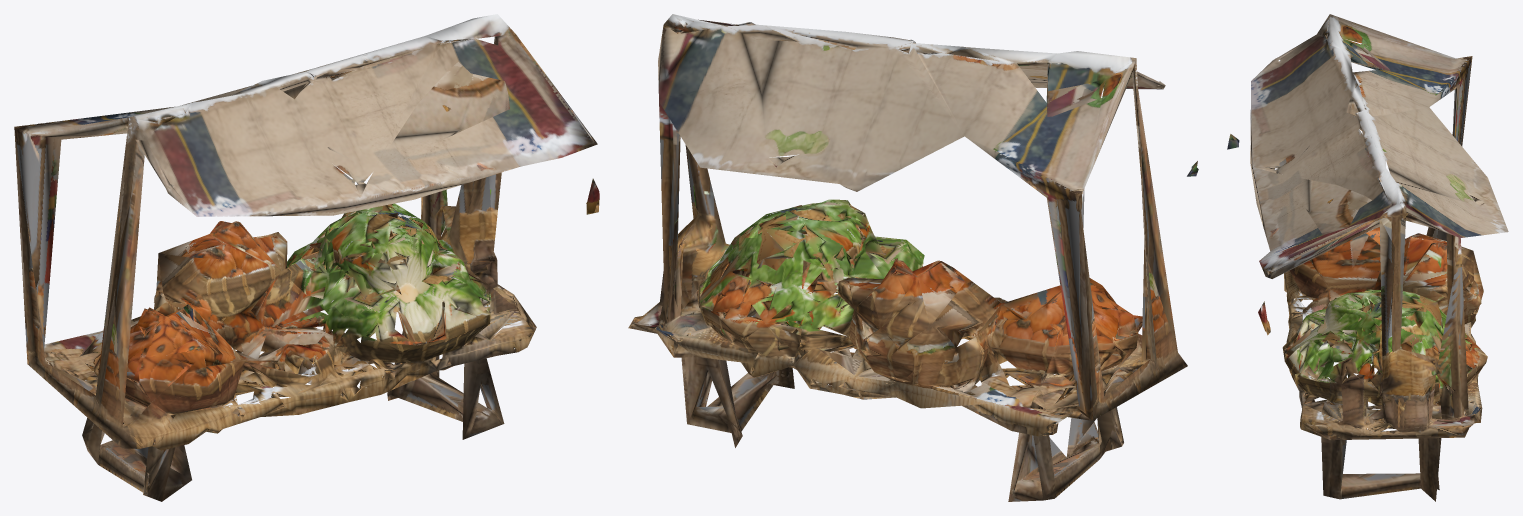
File: PR_MarketStall.fbx
3 views of the same model, side by side, from view 1: azimuth 30°, elevation 25°; view 2: azimuth 150°, elevation 25°; view 3: azimuth 270°, elevation 25° (orthographic). The views are drawn at different scales.
Visible parts, largest first — view 1: texture_mapping; view 2: texture_mapping; view 3: texture_mapping.
Part boxes in pixels (bbox=[...]): texture_mapping: bbox=[14, 14, 599, 501]; texture_mapping: bbox=[628, 14, 1198, 501]; texture_mapping: bbox=[1227, 14, 1508, 501].
Bounding box in the file's own units: 0.9612 × 0.606 × 0.8165.
1 material, 1 textured.
